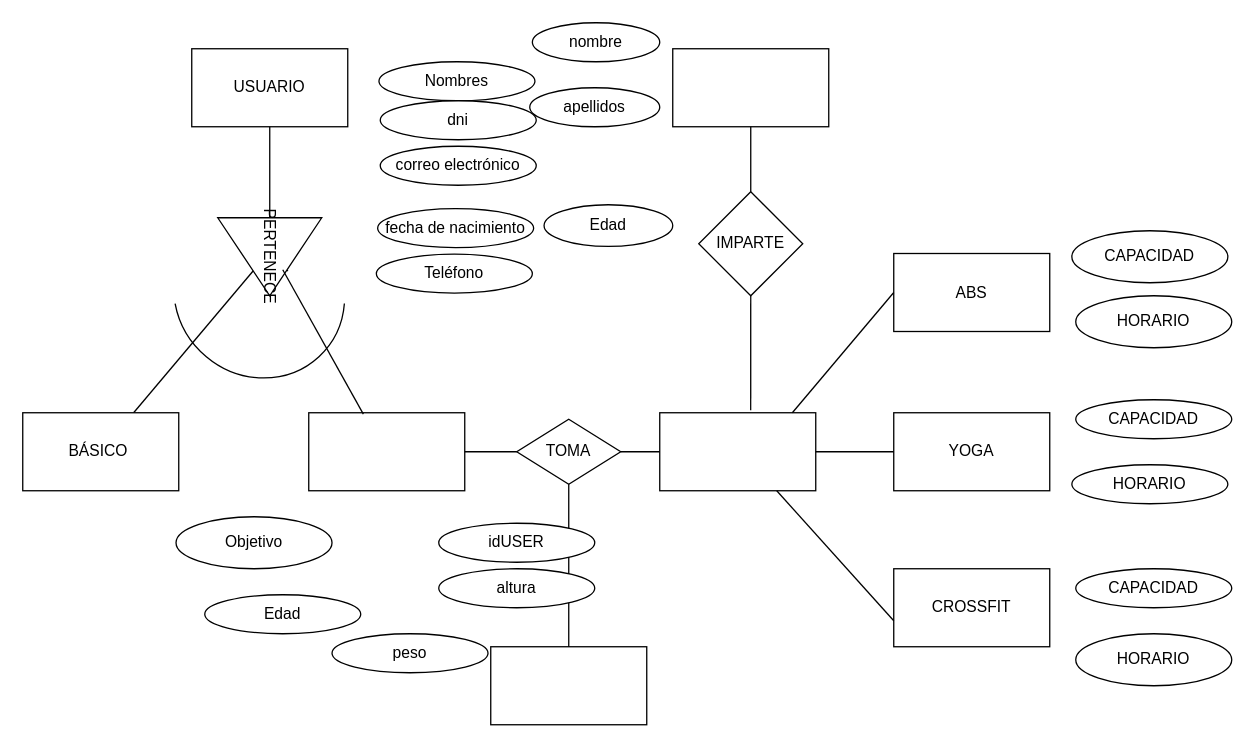
The diagram is 1255 pixels wide and 748 high, and some of its shapes have lost their labels. The shapes that lost their labels are listed below. From the top down, each one's box as (x1, y1, x2, y2) in pixels, then its label:
(671, 47, 829, 127): PROFESOR
(307, 411, 465, 491): PREMIUM
(658, 411, 816, 491): CLASES
(489, 645, 647, 725): SEGUIMIENTO
